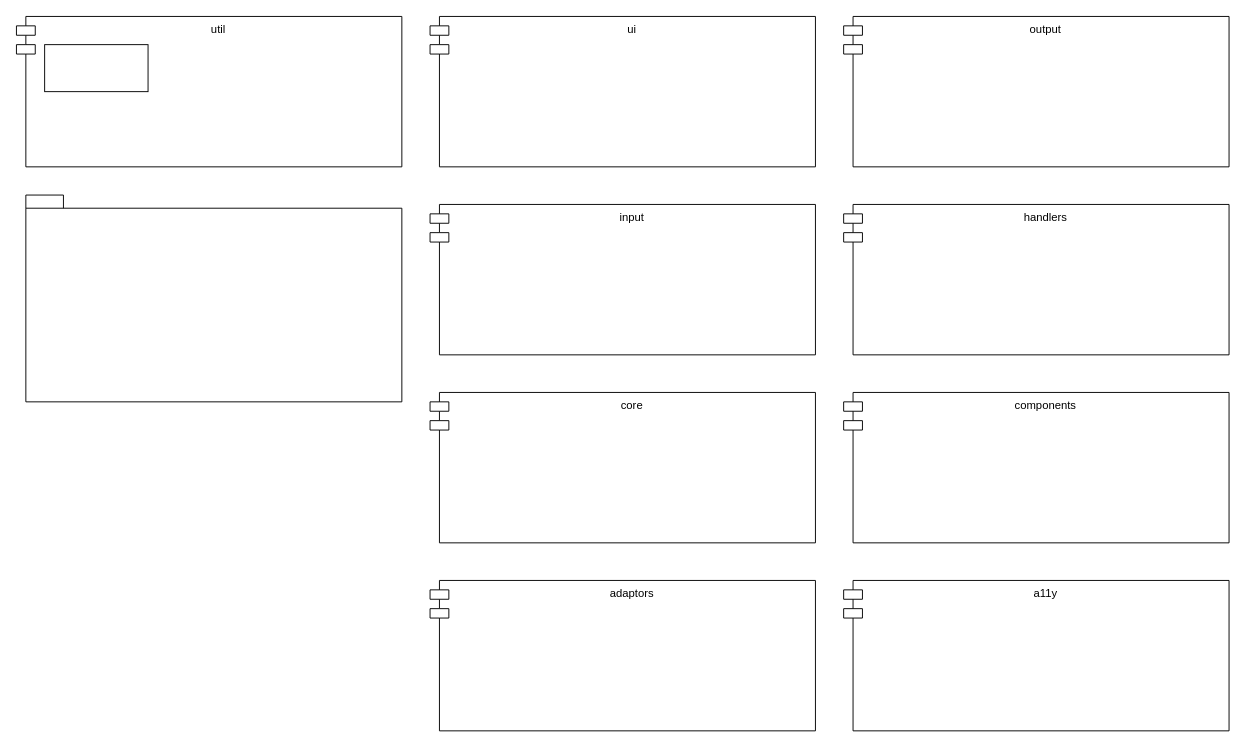
Image size: 1246x747. Some labels were removed from this diagram. Each missing label, with the centre of its shape:
AsyncLoad: [96,68]
mathjax: [213,298]
